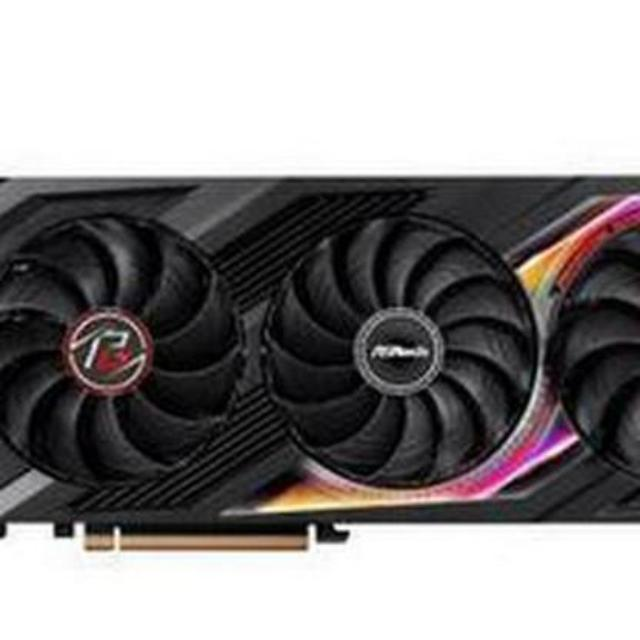GPU: (0, 170, 640, 556)
